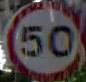Speed limit: (5, 1, 83, 79)
